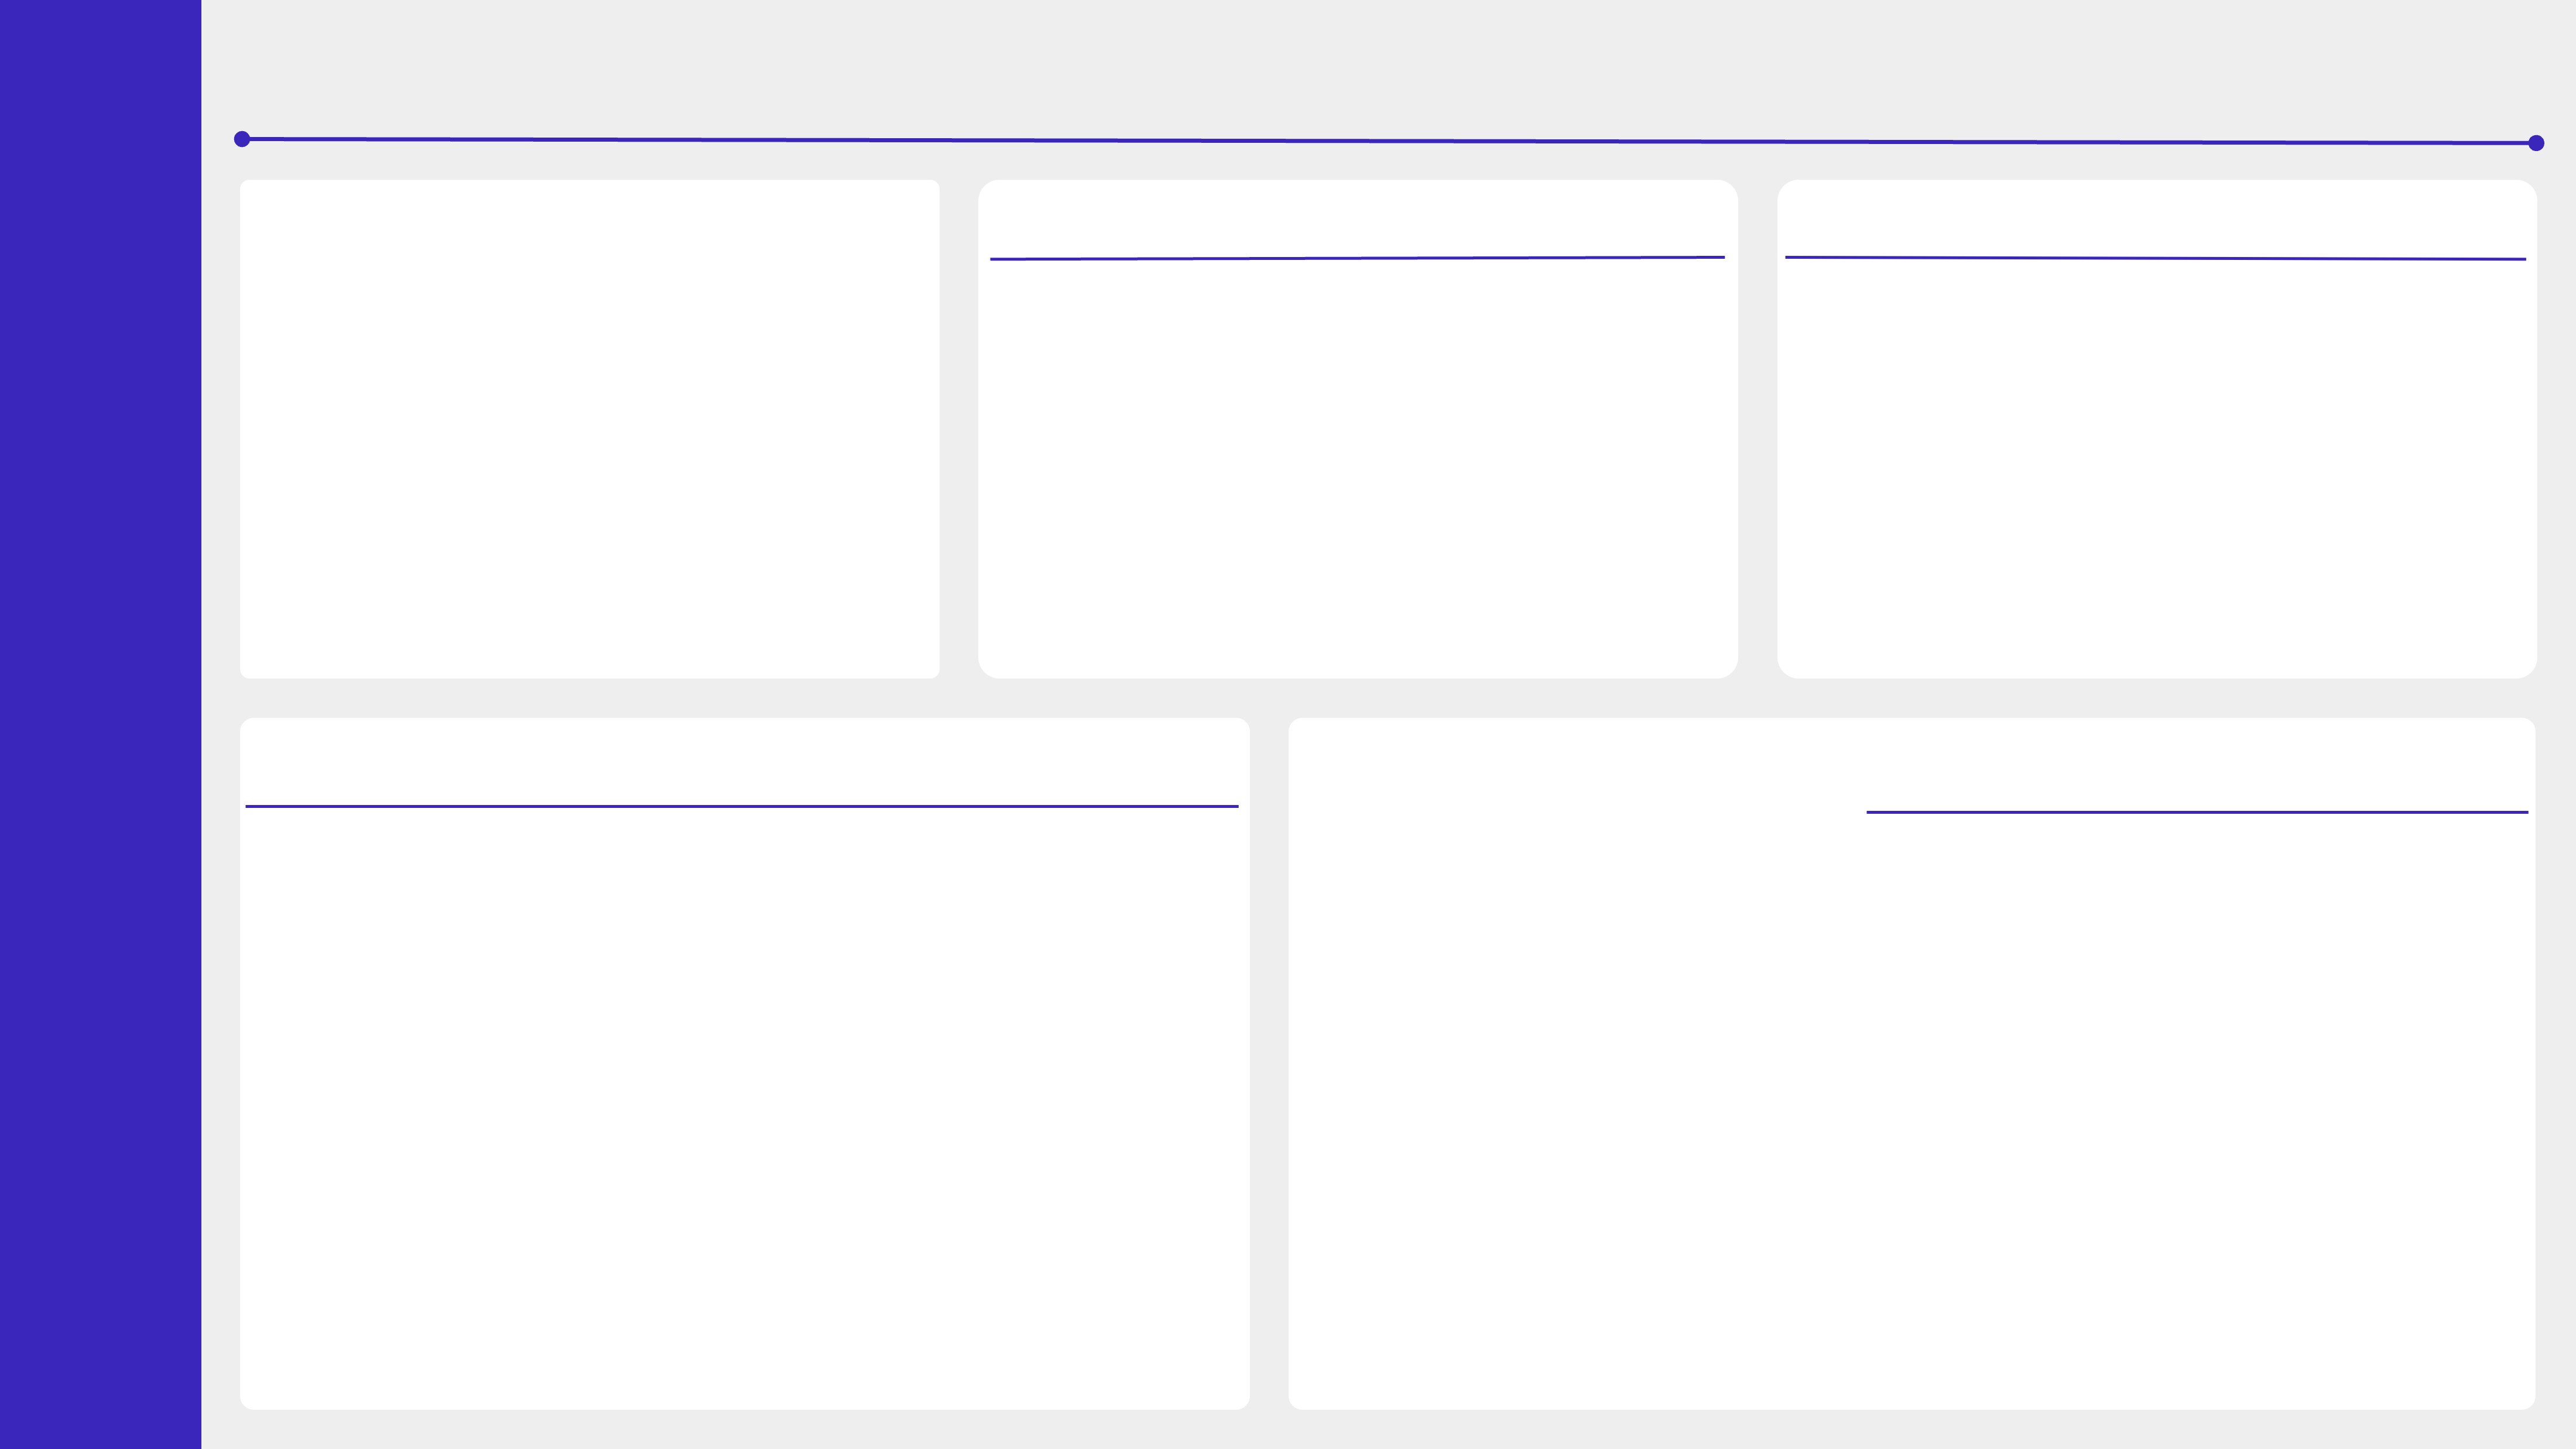

The page's visual inventory and layout, read from the dashboard file:
{"tool":"powerbi","page":{"name":"Measures Testing 1","canvas":[1280,720],"ordinal":2},"visuals":[{"type":"pivotTable","fields":{"Rows":["dDate.Year Quarter"],"Values":["_MeasureTable.Closed Opportunities","_MeasureTable.% QoQ_Orders_Closed"]},"box":[680.6,0,392.4,207.1],"z":0},{"type":"card","fields":{"Values":["Sum(dAccount.Revenue)"]},"box":[813.4,288.5,392.4,144.8],"z":1000},{"type":"tableEx","fields":{"Values":["dAccount.Account","_MeasureTable.Account Rank","_MeasureTable.Total Close Value($)"]},"box":[149.8,0,466.7,720.5],"z":2000},{"type":"slicer","fields":{"Values":["dSalesTeam.Manager"]},"box":[670.5,408.4,249.1,217.2],"z":3000}]}

Visuals, with their boxes on the page's 1280x720 design canvas (x1, y1, x2, y2). These are canvas units, not pixel positions in the 2576x1449 screenshot, which may show the page scaled, cropped or inside an application window:
pivotTable - dDate.Year Quarter x _MeasureTable.Closed Opportunities: (left=681, top=0, right=1073, bottom=207)
card - Sum(dAccount.Revenue): (left=813, top=288, right=1206, bottom=433)
tableEx - dAccount.Account x _MeasureTable.Account Rank: (left=150, top=0, right=616, bottom=720)
slicer - dSalesTeam.Manager: (left=670, top=408, right=920, bottom=626)
